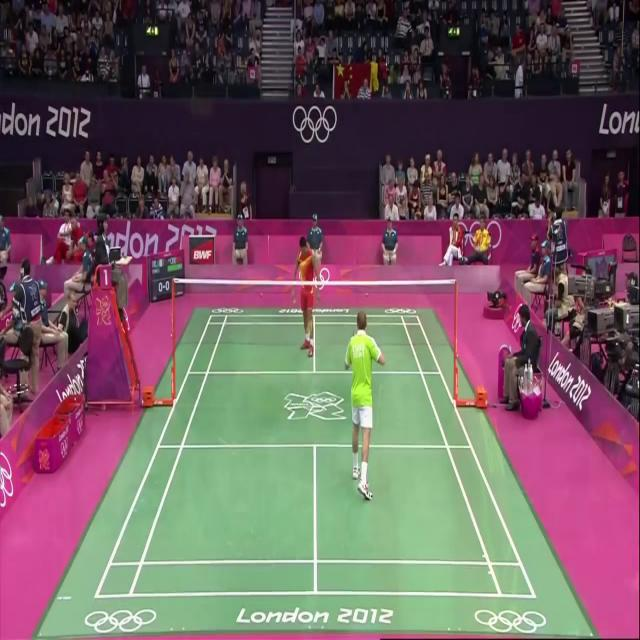Net: (170, 274, 458, 360)
Player1: (346, 288, 386, 510)
Player2: (290, 227, 328, 366)
